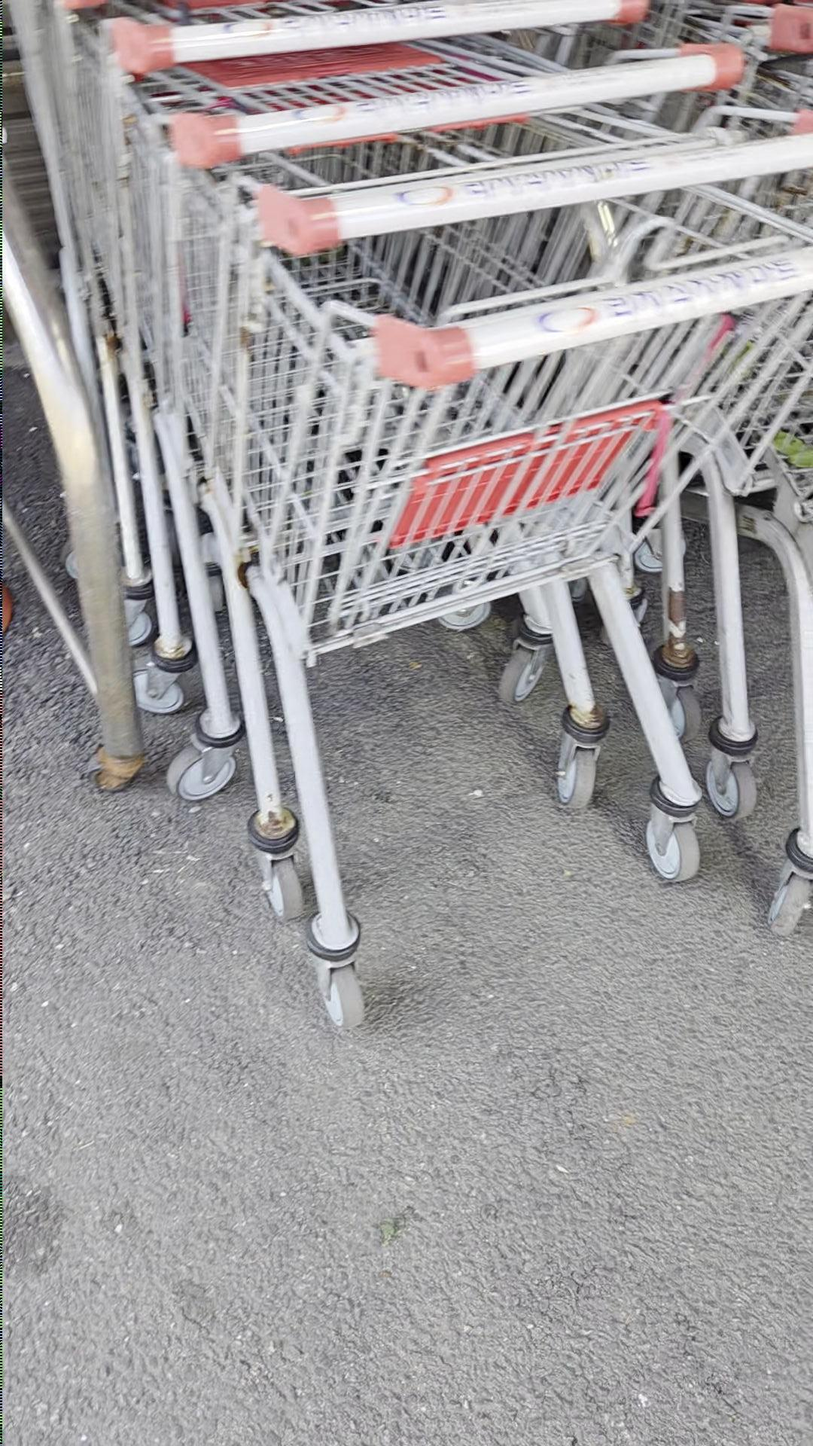combined_cart: (3, 2, 812, 1042)
